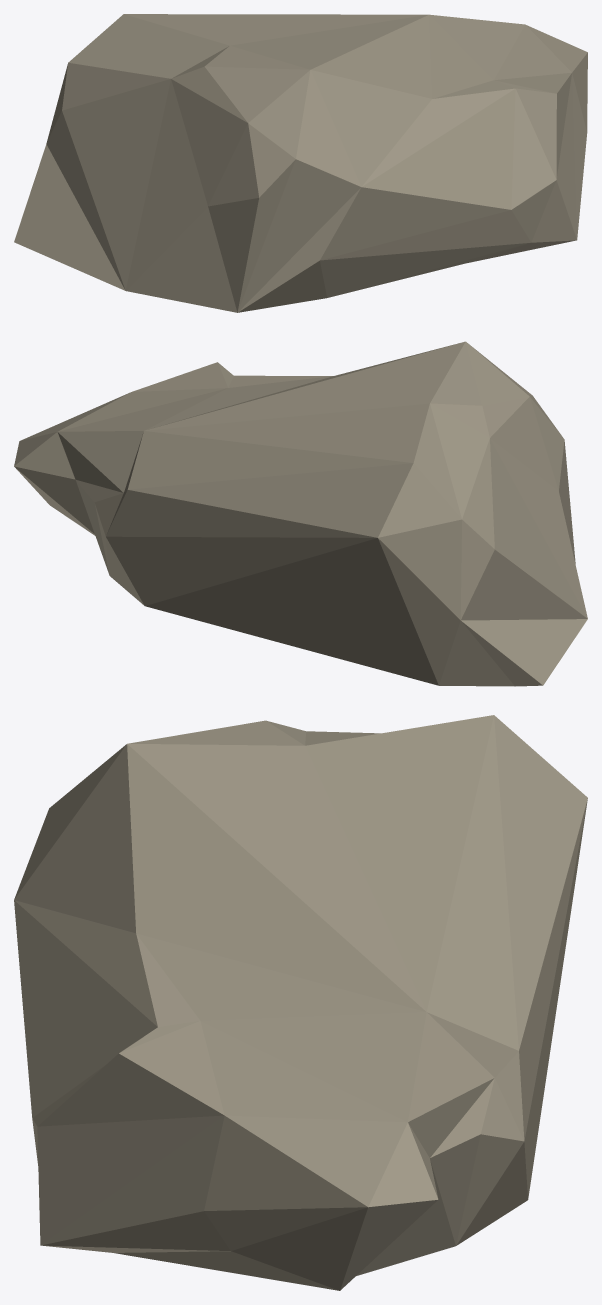
The model's file is SM_rock_12.fbx.
3 views of the same model, one above another, from view 1: azimuth 30°, elevation 25°; view 2: azimuth 150°, elevation 25°; view 3: azimuth 270°, elevation 25° (orthographic). The views are drawn at different scales.
Parts seen in each view (by area): view 1: rock_12; view 2: rock_12; view 3: rock_12.
Part boxes in pixels (bbox=[...]): rock_12: bbox=[14, 14, 587, 312]; rock_12: bbox=[14, 341, 587, 686]; rock_12: bbox=[14, 715, 587, 1290].
Bounding box in the file's own units: 200 × 74.06 × 119.
